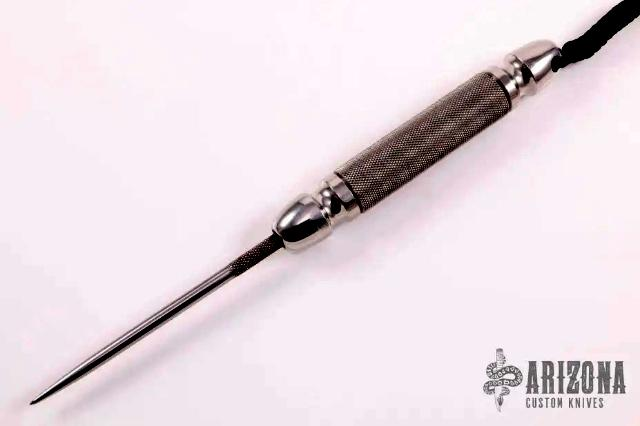ice pick: (29, 40, 562, 406)
